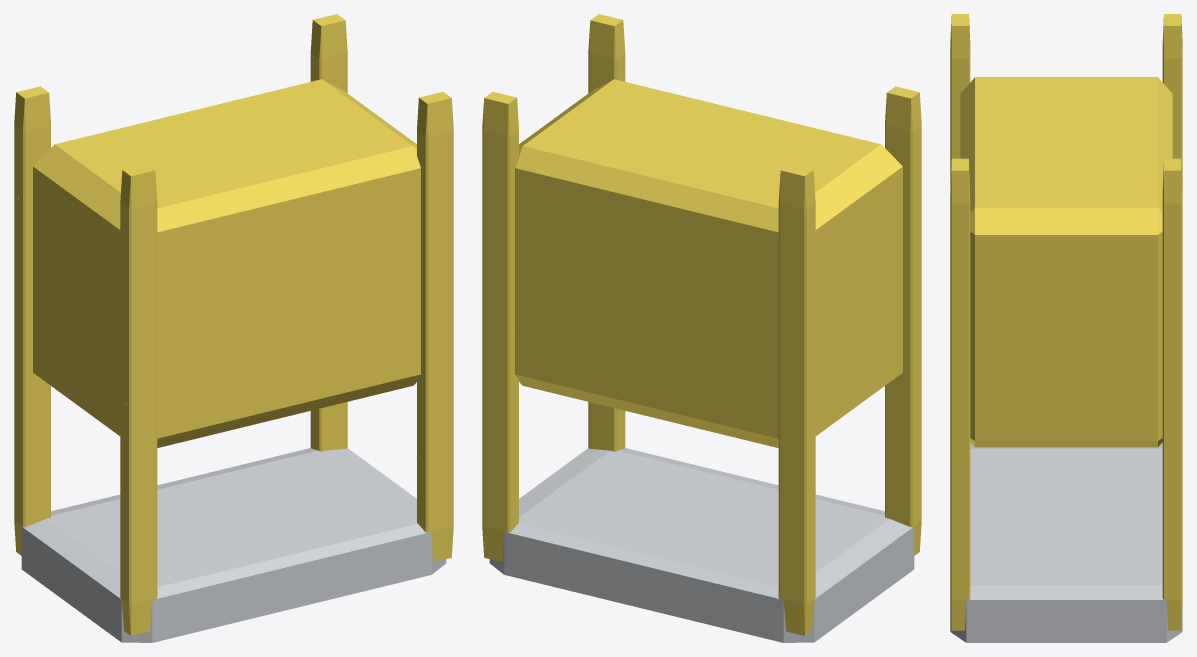
Rendered from b07_rolling_scaffold_tower.glb.
3 views of the same model, side by side, from view 1: azimuth 30°, elevation 25°; view 2: azimuth 150°, elevation 25°; view 3: azimuth 270°, elevation 25° (orthographic).
Visible parts, largest first — view 1: b07_rolling_scaffold_tower; view 2: b07_rolling_scaffold_tower; view 3: b07_rolling_scaffold_tower.
Boxes of the visible parts, x1,y1,x2,y2 form: b07_rolling_scaffold_tower: [14, 14, 453, 642]; b07_rolling_scaffold_tower: [482, 14, 921, 642]; b07_rolling_scaffold_tower: [950, 14, 1182, 642].
Size of the model in its own units: 2.33 by 3.25 by 1.44.
